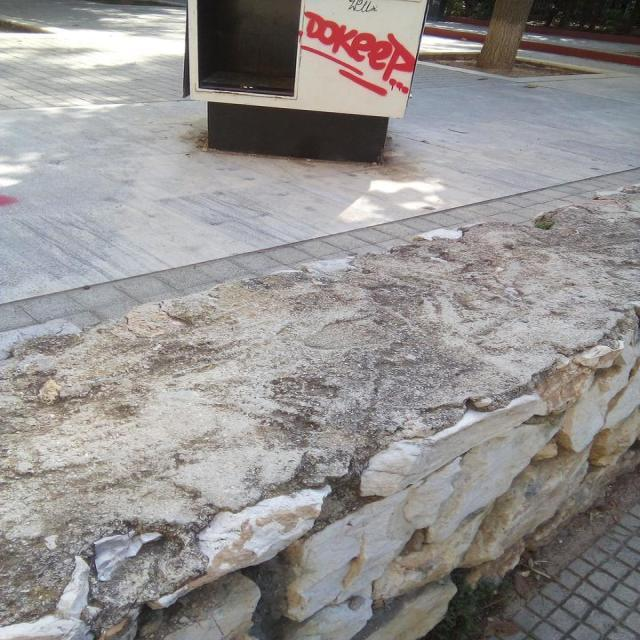nonspitting: (297, 9, 416, 99)
